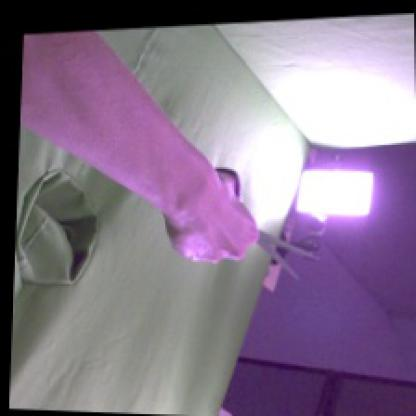Hand: (168, 171, 260, 265)
